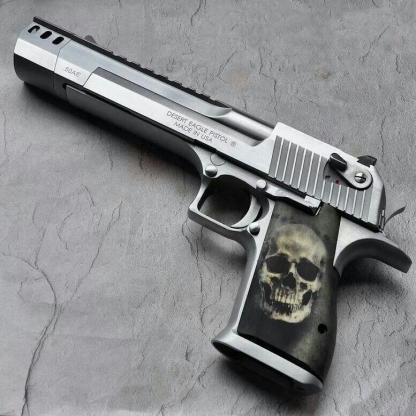Pistol: (12, 15, 412, 396)
